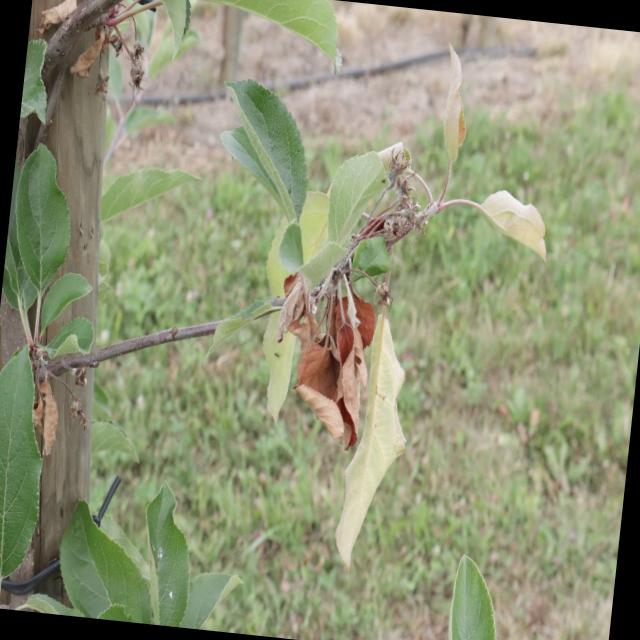-FireBlight-: (253, 262, 385, 448), (343, 298, 414, 558), (442, 183, 557, 262), (364, 141, 432, 238), (437, 52, 480, 182)
